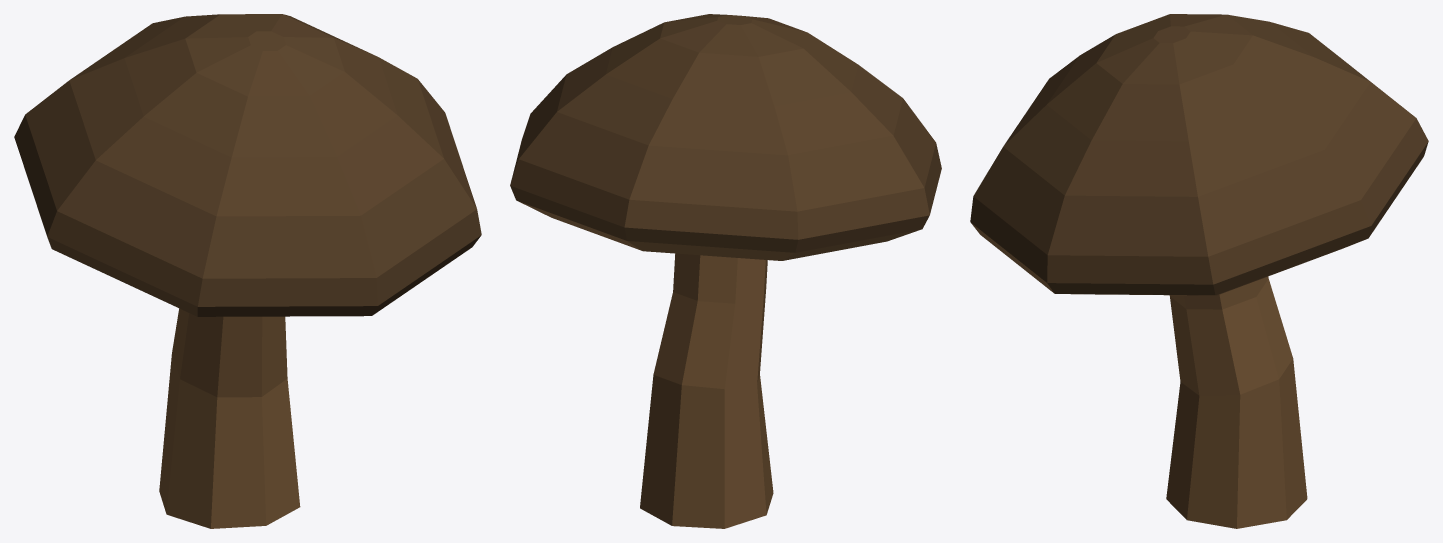
Rendered from CrookedMushroom1.fbx.
The picture shows the model from 3 angles, left to right: view 1: azimuth 30°, elevation 25°; view 2: azimuth 150°, elevation 25°; view 3: azimuth 270°, elevation 25°; orthographic projection. The views are drawn at different scales.
Parts seen in each view (by area): view 1: CrookedMushroom1; view 2: CrookedMushroom1; view 3: CrookedMushroom1.
Part boxes in pixels (x1,y1,x2,y2): CrookedMushroom1: (14, 14, 481, 528); CrookedMushroom1: (510, 14, 941, 528); CrookedMushroom1: (970, 14, 1428, 528).
Size of the model in its own units: 529 by 589 by 522.
